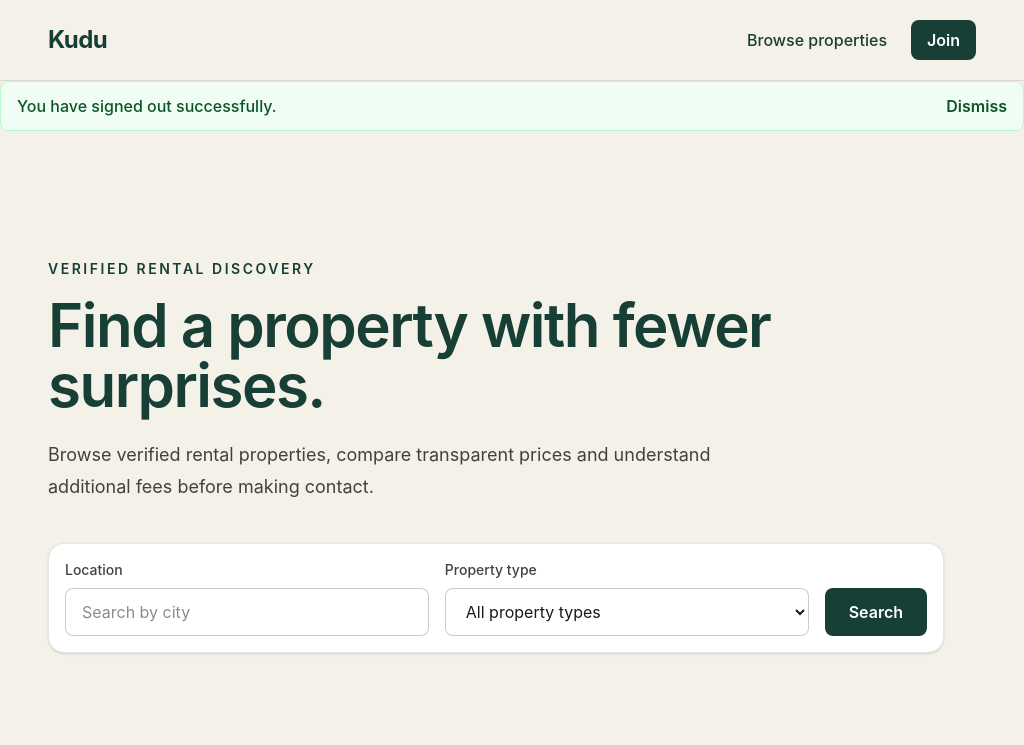
Scenario: PropertyCataloguePage › announces a successful sign-out received through navigation state
The width and height of the screenshot is (1024, 745).
Expected: the text "You have signed out successfully." is shown, [17, 94, 277, 118]
Click the button with aria-label "Dismiss sign-out confirmation": (977, 106) [946, 94, 1007, 118]
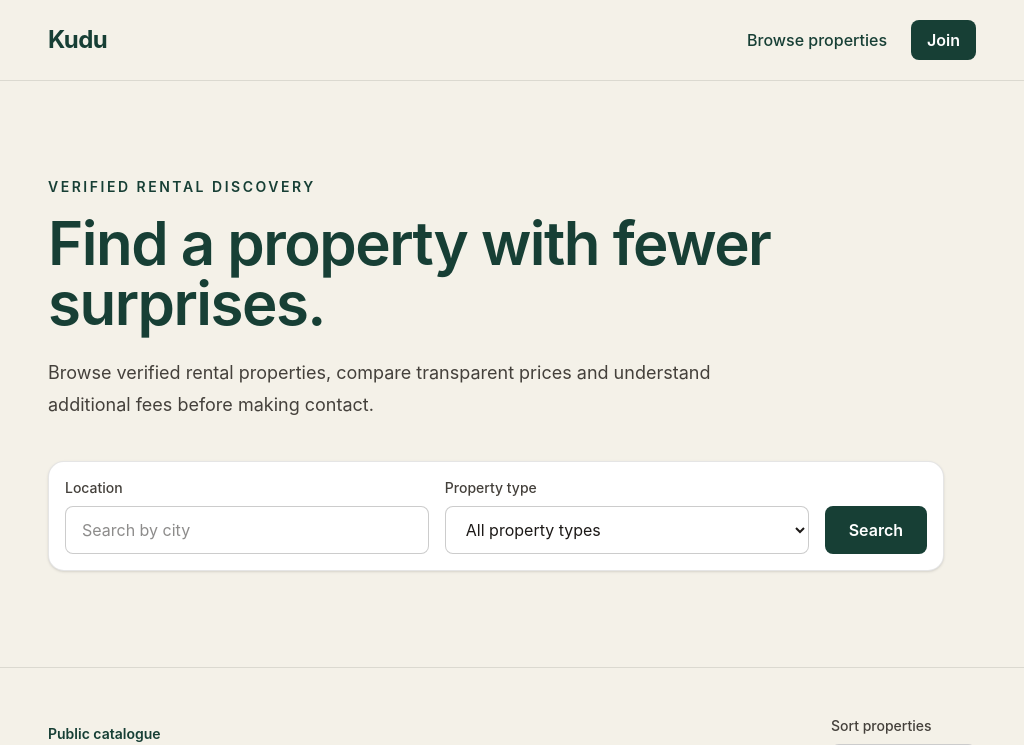
Expected: the text "You have signed out successfully." is gone
